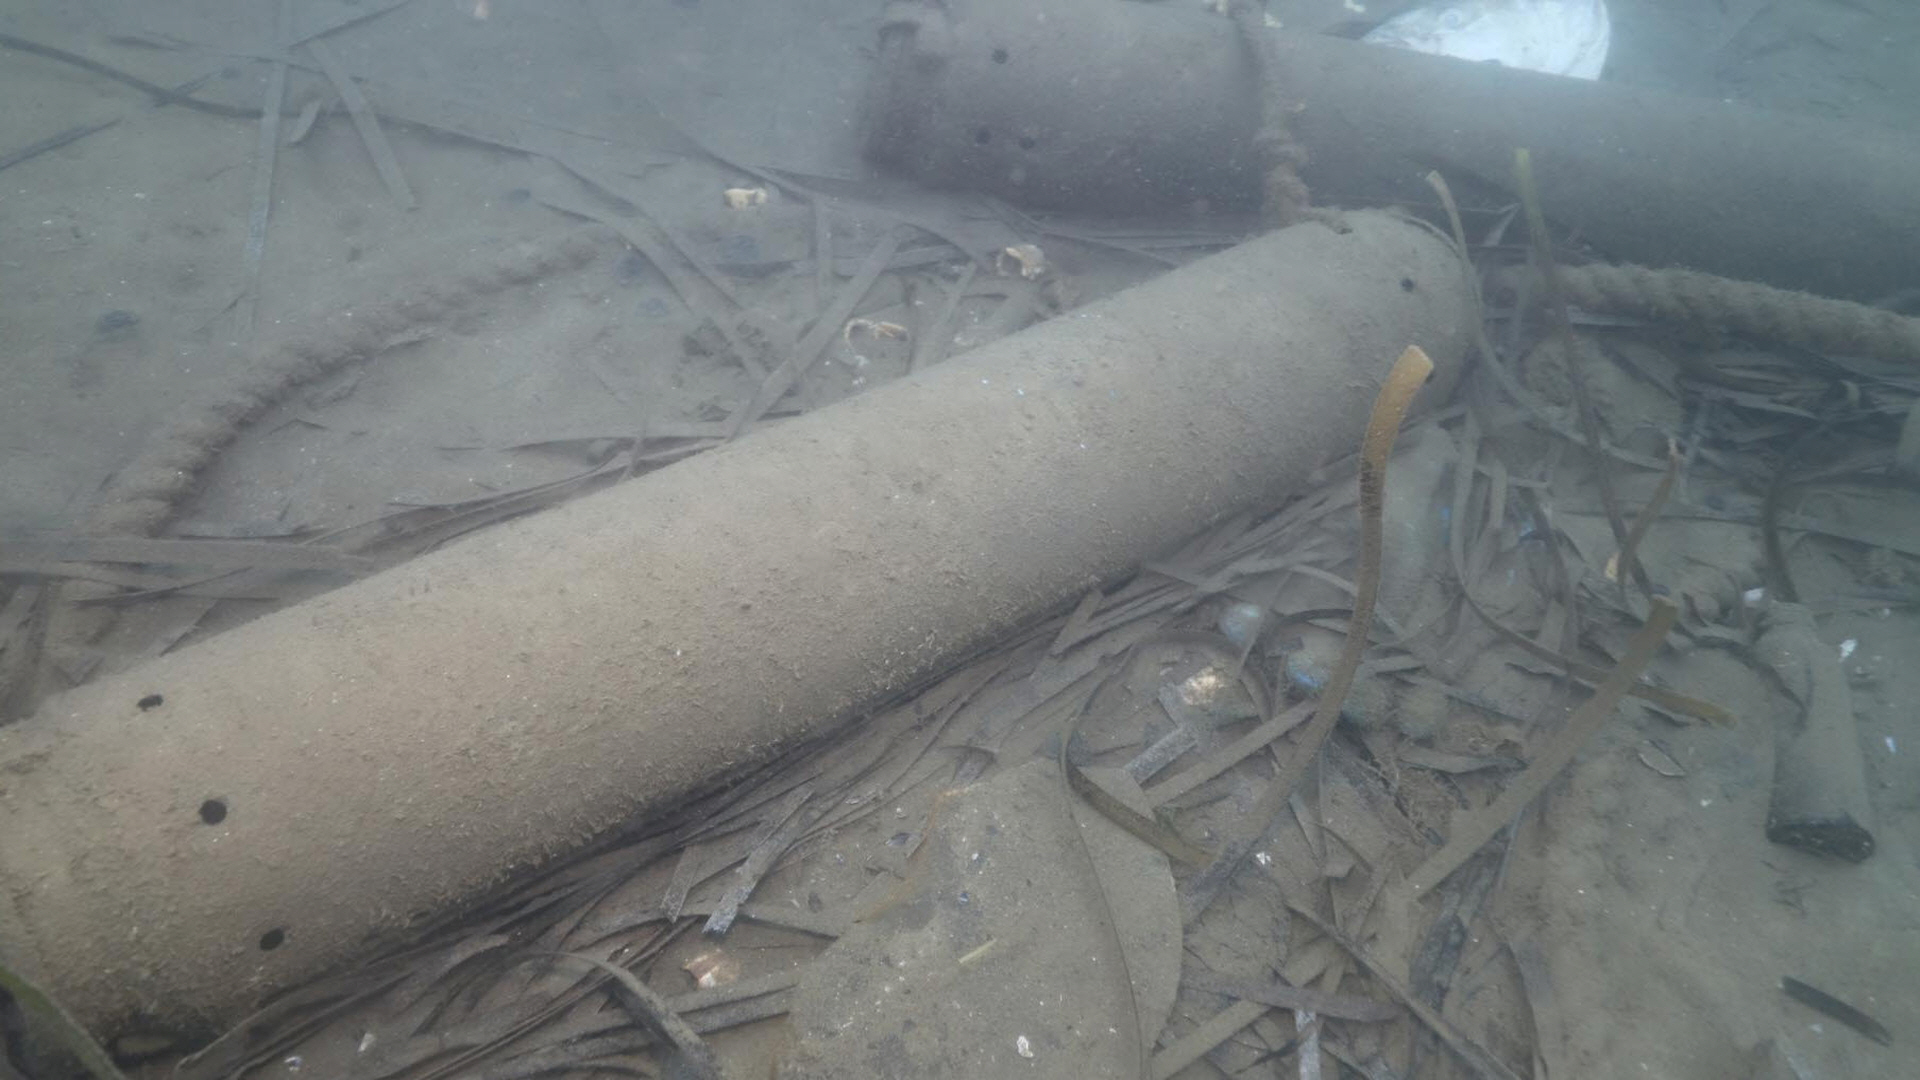bundle of ropes: (1226, 0, 1312, 225)
eel fish trap: (0, 206, 1482, 1062), (858, 0, 1920, 309)
rope: (42, 222, 611, 673), (1490, 258, 1920, 368)
